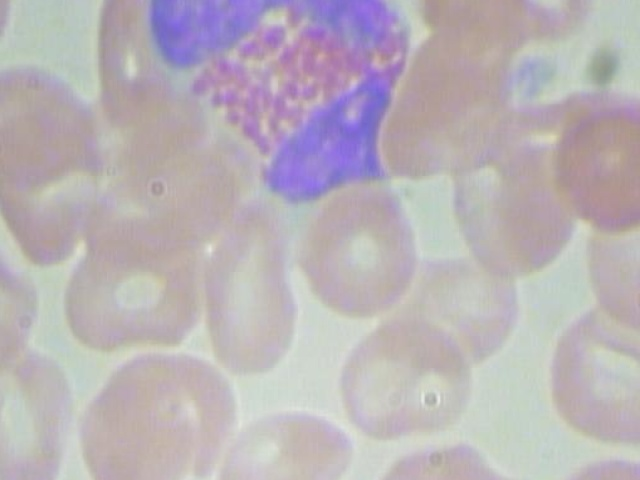Platelets: (505, 44, 569, 99)
RBC: (330, 304, 481, 445), (201, 196, 314, 381), (288, 177, 424, 322), (58, 237, 216, 354), (0, 53, 114, 195), (66, 371, 203, 480), (543, 303, 640, 447), (547, 97, 640, 242), (406, 248, 519, 361), (0, 316, 72, 480), (217, 399, 356, 480), (351, 433, 473, 480), (493, 0, 605, 51), (0, 240, 47, 361)
WBC: (137, 0, 415, 211)
